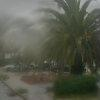Palm tree: (36, 3, 99, 78)
